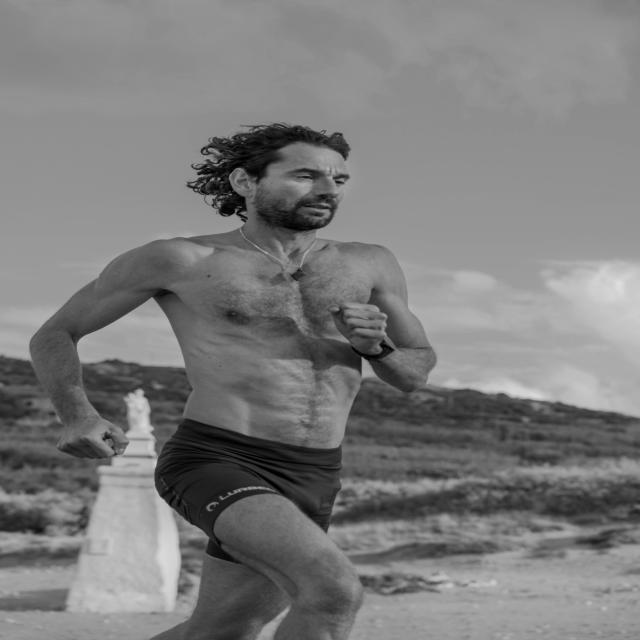stand: (114, 113, 415, 640)
